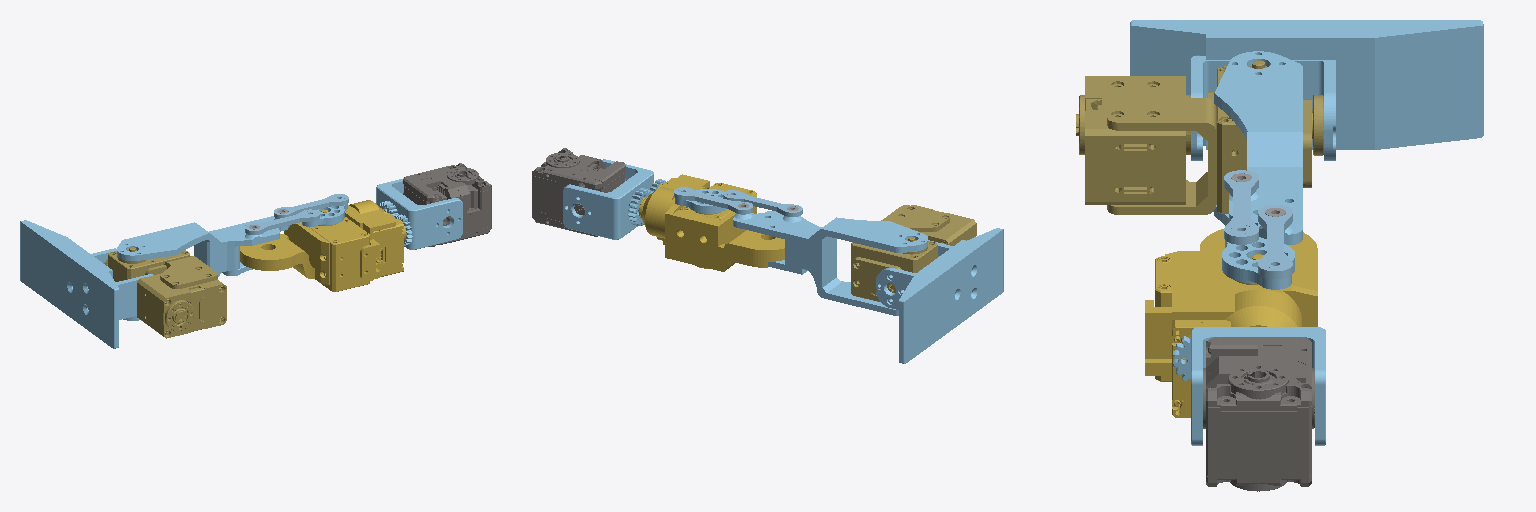
robot.urdf — right_leg_reorder:
<?xml version="1.0" ?><robot name="right_leg_reorder">  
  <link name="2xc430">    
    <visual>      
      <origin xyz="0 0 0" rpy="0 -0 0"/>      
      <geometry>        
        <mesh filename="package:///meshes/right_2xc430_visual.stl"/>        
      </geometry>      
      <material name="2xc430_material">        
        <color rgba="0.51698661238356047321 0.50347815951093488618 0.49050589017722012741 1.0"/>        
      </material>      
    </visual>    
    <collision>      
      <origin xyz="0 0 0" rpy="0 -0 0"/>      
      <geometry>        
        <mesh filename="package:///meshes/right_2xc430_collision.stl"/>        
      </geometry>      
    </collision>    
    <inertial>      
      <origin xyz="-0.012000151133958554886 0.00049588831385534079804 0.018504019244502921404" rpy="0 0 0"/>      
      <mass value="0.11059999999836234164"/>      
      <inertia ixx="2.2818802599017778125e-05" ixy="4.6888548258171730122e-08" ixz="4.6520143290256497303e-08" iyy="3.0871666424468414871e-05" iyz="-5.747734389970726397e-07" izz="3.087163208233809265e-05"/>      
    </inertial>    
  </link>  

  <link name="hip_yaw_link">    
    <visual>      
      <origin xyz="0 0 0" rpy="0 -0 0"/>      
      <geometry>        
        <mesh filename="package:///meshes/right_hip_yaw_link_visual.stl"/>        
      </geometry>      
      <material name="hip_yaw_link_material">        
        <color rgba="0.61568627450980395466 0.81176470588235283277 0.92941176470588238168 1.0"/>        
      </material>      
    </visual>    
    <collision>      
      <origin xyz="0 0 0" rpy="0 -0 0"/>      
      <geometry>        
        <mesh filename="package:///meshes/right_hip_yaw_link_collision.stl"/>        
      </geometry>      
    </collision>    
    <inertial>      
      <origin xyz="-2.6529777091803952907e-18 -0.015800610849654270207 -0.019005670096647747647" rpy="0 0 0"/>      
      <mass value="0.013199999999999994724"/>      
      <inertia ixx="5.789461597517412337e-06" ixy="-3.2907588574144851931e-36" ixz="3.2286603810593676882e-35" iyy="5.0110144042848759377e-06" iyz="1.1826010760651800808e-09" izz="2.7344876354814335894e-06"/>      
    </inertial>    
  </link>  

  <link name="spur_gear_21_teeth">    
    <visual>      
      <origin xyz="0 0 0" rpy="0 -0 0"/>      
      <geometry>        
        <mesh filename="package:///meshes/right_spur_gear_21_teeth_visual.stl"/>        
      </geometry>      
      <material name="spur_gear_21_teeth_material">        
        <color rgba="0.61568627450980395466 0.81176470588235294379 0.9294117647058824927 1.0"/>        
      </material>      
    </visual>    
    <collision>      
      <origin xyz="0 0 0" rpy="0 -0 0"/>      
      <geometry>        
        <mesh filename="package:///meshes/right_spur_gear_21_teeth_collision.stl"/>        
      </geometry>      
    </collision>    
    <inertial>      
      <origin xyz="-4.5505289275732651246e-11 -1.6782167404155845752e-11 -0.00249241020062506086" rpy="0 0 0"/>      
      <mass value="0.0022000000000000001325"/>      
      <inertia ixx="7.0162310059594196881e-08" ixy="-5.4656449640042247183e-37" ixz="-4.3150666450744828066e-37" iyy="7.016231005804746178e-08" iyz="-6.9066436847920049312e-38" izz="1.3125544198538289306e-07"/>      
    </inertial>    
  </link>  

  <link name="right_hip_pitch_link">    
    <visual>      
      <origin xyz="0 0 0" rpy="0 -0 0"/>      
      <geometry>        
        <mesh filename="package:///meshes/right_hip_pitch_link_visual.stl"/>        
      </geometry>      
      <material name="right_hip_pitch_link_material">        
        <color rgba="0.81231119922470307326 0.71311588921073154612 0.33680089849959454762 1.0"/>        
      </material>      
    </visual>    
    <collision>      
      <origin xyz="0 0 0" rpy="0 -0 0"/>      
      <geometry>        
        <mesh filename="package:///meshes/right_hip_pitch_link_collision.stl"/>        
      </geometry>      
    </collision>    
    <inertial>      
      <origin xyz="0.010187905578010728394 -0.0056188467228508410731 0.038815928333491442337" rpy="0 0 0"/>      
      <mass value="0.14548965119785950417"/>      
      <inertia ixx="7.0942049594865431734e-05" ixy="1.1158758975156953663e-06" ixz="7.6515558781281230204e-06" iyy="8.5157398802913230511e-05" iyz="1.0699337399089805e-06" izz="4.0945306935231512132e-05"/>      
    </inertial>    
  </link>  

  <link name="spur_gear_18_teeth">    
    <visual>      
      <origin xyz="0 0 0" rpy="0 -0 0"/>      
      <geometry>        
        <mesh filename="package:///meshes/right_spur_gear_18_teeth_visual.stl"/>        
      </geometry>      
      <material name="spur_gear_18_teeth_material">        
        <color rgba="0.61568627450980395466 0.81176470588235294379 0.92941176470588238168 1.0"/>        
      </material>      
    </visual>    
    <collision>      
      <origin xyz="0 0 0" rpy="0 -0 0"/>      
      <geometry>        
        <mesh filename="package:///meshes/right_spur_gear_18_teeth_collision.stl"/>        
      </geometry>      
    </collision>    
    <inertial>      
      <origin xyz="-1.2350888076970198418e-14 -3.7635627055517647656e-13 0.0017500000000010135486" rpy="0 0 0"/>      
      <mass value="0.0011999999999999998949"/>      
      <inertia ixx="2.9367899810676062645e-08" ixy="-5.8641944654482965406e-38" ixz="5.3255683241419689376e-37" iyy="2.9367899814783318789e-08" iyz="1.3183913269072010735e-38" izz="5.6306346207859568346e-08"/>      
    </inertial>    
  </link>  

  <joint name="right_hip_yaw_drive" type="revolute">    
    <origin xyz="0.019199999999999432798 0.00020000000000077594597 -3.9572511933982923438e-14" rpy="-3.1415926535897544802 -2.6855722846812135811e-13 4.4780845698253311116e-13"/>    
    <parent link="right_hip_pitch_link"/>    
    <child link="spur_gear_18_teeth"/>    
    <axis xyz="0 0 1"/>    
    <limit effort="1" velocity="20" lower="-1.8325957145940461324" upper="1.8325957145940461324"/>    
    <joint_properties friction="0.0"/>    
  </joint>  

  <link name="right_calf_link">    
    <visual>      
      <origin xyz="0 0 0" rpy="0 -0 0"/>      
      <geometry>        
        <mesh filename="package:///meshes/right_calf_link_visual.stl"/>        
      </geometry>      
      <material name="right_calf_link_material">        
        <color rgba="0.61568627450980395466 0.81176470588235294379 0.9294117647058824927 1.0"/>        
      </material>      
    </visual>    
    <collision>      
      <origin xyz="0 0 0" rpy="0 -0 0"/>      
      <geometry>        
        <mesh filename="package:///meshes/right_calf_link_collision.stl"/>        
      </geometry>      
    </collision>    
    <inertial>      
      <origin xyz="-0.0043450054394401473393 -0.040752982164757464711 0.0087116093514751895971" rpy="0 0 0"/>      
      <mass value="0.030999999999999992839"/>      
      <inertia ixx="3.306938868543694962e-05" ixy="1.3783307152005447193e-06" ixz="-1.274253401714876505e-07" iyy="7.7316525337490038072e-06" iyz="7.3356500737983568942e-08" izz="2.8031377754211947353e-05"/>      
    </inertial>    
  </link>  

  <link name="bearing_683">    
    <visual>      
      <origin xyz="0 0 0" rpy="0 -0 0"/>      
      <geometry>        
        <mesh filename="package:///meshes/right_bearing_683_visual.stl"/>        
      </geometry>      
      <material name="bearing_683_material">        
        <color rgba="0.64705882352941179736 0.64705882352941179736 0.64705882352941179736 1.0"/>        
      </material>      
    </visual>    
    <collision>      
      <origin xyz="0 0 0" rpy="0 -0 0"/>      
      <geometry>        
        <mesh filename="package:///meshes/right_bearing_683_collision.stl"/>        
      </geometry>      
    </collision>    
    <inertial>      
      <origin xyz="1.0732094295237755686e-19 -2.4186774283160312878e-19 -0.0015500000000000003792" rpy="0 0 0"/>      
      <mass value="0.00048694686130641793437"/>      
      <inertia ixx="2.1551456503319887385e-09" ixy="-1.7491155954423949016e-28" ixz="-1.4181088723102325815e-38" iyy="2.1551456503319883249e-09" iyz="2.7953863573959653405e-38" izz="3.5303647444715305817e-09"/>      
    </inertial>    
  </link>  

  <joint name="right_knee_front_rev_2" type="revolute">    
    <origin xyz="0.0057402514854763839539 -0.013858192987669326612 0.026200000000000188416" rpy="-3.1415926535897886751 -3.2616767361120603506e-15 1.5711344860216835961"/>    
    <parent link="right_calf_link"/>    
    <child link="bearing_683"/>    
    <axis xyz="0 0 1"/>    
    <limit effort="1" velocity="20"/>    
    <joint_properties friction="0.0"/>    
  </joint>  

  <link name="bearing_683_2">    
    <visual>      
      <origin xyz="0 0 0" rpy="0 -0 0"/>      
      <geometry>        
        <mesh filename="package:///meshes/right_bearing_683_2_visual.stl"/>        
      </geometry>      
      <material name="bearing_683_2_material">        
        <color rgba="0.64705882352941179736 0.64705882352941179736 0.64705882352941179736 1.0"/>        
      </material>      
    </visual>    
    <collision>      
      <origin xyz="0 0 0" rpy="0 -0 0"/>      
      <geometry>        
        <mesh filename="package:///meshes/right_bearing_683_2_collision.stl"/>        
      </geometry>      
    </collision>    
    <inertial>      
      <origin xyz="1.0732094295237708741e-19 -1.1092294808199861648e-18 -0.0015500000000000003792" rpy="0 0 0"/>      
      <mass value="0.00048694686130641793437"/>      
      <inertia ixx="2.1551456503319887385e-09" ixy="-5.2750838441507813886e-29" ixz="0" iyy="2.1551456503319883249e-09" iyz="-4.4559467649346522358e-38" izz="3.5303647444715305817e-09"/>      
    </inertial>    
  </link>  

  <joint name="right_knee_back_rev_2" type="revolute">    
    <origin xyz="-0.0057402514854757351673 0.013858192987668299656 0.026199999999999772082" rpy="-3.1415926535897873428 -1.7584330469580919838e-14 1.5695900556931792202"/>    
    <parent link="right_calf_link"/>    
    <child link="bearing_683_2"/>    
    <axis xyz="0 0 1"/>    
    <limit effort="1" velocity="20"/>    
    <joint_properties friction="0.0"/>    
  </joint>  

  <link name="right_ank_pitch_link">    
    <visual>      
      <origin xyz="0 0 0" rpy="0 -0 0"/>      
      <geometry>        
        <mesh filename="package:///meshes/right_ank_pitch_link_visual.stl"/>        
      </geometry>      
      <material name="right_ank_pitch_link_material">        
        <color rgba="0.70321688500203327621 0.64514870846184446673 0.40484735422826279017 1.0"/>        
      </material>      
    </visual>    
    <collision>      
      <origin xyz="0 0 0" rpy="0 -0 0"/>      
      <geometry>        
        <mesh filename="package:///meshes/right_ank_pitch_link_collision.stl"/>        
      </geometry>      
    </collision>    
    <inertial>      
      <origin xyz="-0.017770241889542317398 0.012301334508572219634 0.018814514831173603099" rpy="0 0 0"/>      
      <mass value="0.17676376695067899658"/>      
      <inertia ixx="4.7283381546856786612e-05" ixy="1.3380598207240605858e-06" ixz="6.1532628607400666377e-07" iyy="0.0001070646253591693456" iyz="-5.1080086246266920656e-08" izz="0.00012185522398303507265"/>      
    </inertial>    
  </link>  

  <link name="ank_roll_link">    
    <visual>      
      <origin xyz="0 0 0" rpy="0 -0 0"/>      
      <geometry>        
        <mesh filename="package:///meshes/right_ank_roll_link_visual.stl"/>        
      </geometry>      
      <material name="ank_roll_link_material">        
        <color rgba="0.61568627450980395466 0.81176470588235294379 0.92941176470588238168 1.0"/>        
      </material>      
    </visual>    
    <collision>      
      <origin xyz="0 0 0" rpy="0 -0 0"/>      
      <geometry>        
        <mesh filename="package:///meshes/right_ank_roll_link_collision.stl"/>        
      </geometry>      
    </collision>    
    <inertial>      
      <origin xyz="-0.027003066516822164106 -2.0057327605930640986e-12 0.033764011359896511921" rpy="0 0 0"/>      
      <mass value="0.042599999999999998979"/>      
      <inertia ixx="3.7284397827465391934e-05" ixy="-5.5176118208468573726e-16" ixz="2.3929183768081708121e-06" iyy="3.7589276943350449865e-05" iyz="5.0934855128918095395e-12" izz="1.0090430906787057163e-05"/>      
    </inertial>    
  </link>  

  <joint name="right_ank_roll" type="revolute">    
    <origin xyz="-0.022749999999988414906 -3.3306690738754696213e-15 0.01899999999999847991" rpy="1.5707963267948539254 5.2107940288300650017e-14 1.5707963267948161779"/>    
    <parent link="right_ank_pitch_link"/>    
    <child link="ank_roll_link"/>    
    <axis xyz="0 0 1"/>    
    <limit effort="1" velocity="20" lower="-1.570796326794896558" upper="1.570796326794896558"/>    
    <joint_properties friction="0.0"/>    
  </joint>  

  <joint name="right_ank_pitch" type="revolute">    
    <origin xyz="3.002118024832101527e-17 -0.10000000000000031086 0.027750000000000059341" rpy="-3.1415926535897926719 6.2448450038443343634e-16 -3.1415926535897926719"/>    
    <parent link="right_calf_link"/>    
    <child link="right_ank_pitch_link"/>    
    <axis xyz="0 0 1"/>    
    <limit effort="1" velocity="20" lower="-0.785398163397448279" upper="1.7453292519943295336"/>    
    <joint_properties friction="0.0"/>    
  </joint>  

  <joint name="right_knee" type="revolute">    
    <origin xyz="1.3574383152273289389e-16 -0.0087500000000006062512 0.085949999999999984746" rpy="-1.5707963267948805708 -3.7746952287071370984e-15 4.9902824220642934492e-15"/>    
    <parent link="right_hip_pitch_link"/>    
    <child link="right_calf_link"/>    
    <axis xyz="0 0 1"/>    
    <limit effort="1" velocity="20" lower="0" upper="2.0943951023931952626"/>    
    <joint_properties friction="0.0"/>    
  </joint>  

  <link name="xm430_plate">    
    <visual>      
      <origin xyz="0 0 0" rpy="0 -0 0"/>      
      <geometry>        
        <mesh filename="package:///meshes/right_xm430_plate_visual.stl"/>        
      </geometry>      
      <material name="xm430_plate_material">        
        <color rgba="0.61568627450980395466 0.81176470588235294379 0.92941176470588227065 1.0"/>        
      </material>      
    </visual>    
    <collision>      
      <origin xyz="0 0 0" rpy="0 -0 0"/>      
      <geometry>        
        <mesh filename="package:///meshes/right_xm430_plate_collision.stl"/>        
      </geometry>      
    </collision>    
    <inertial>      
      <origin xyz="-9.7261304206861753998e-19 -2.7508707211877265003e-18 0.0025278513919583813462" rpy="0 0 0"/>      
      <mass value="0.0027000000000000001429"/>      
      <inertia ixx="2.4635091298412544671e-07" ixy="5.8739562556303566831e-08" ixz="3.1093856674988785691e-36" iyy="1.2887178787151822041e-07" iyz="7.4139751184723011127e-37" izz="3.6467998413810321832e-07"/>      
    </inertial>    
  </link>  

  <link name="knee_rod">    
    <visual>      
      <origin xyz="0 0 0" rpy="0 -0 0"/>      
      <geometry>        
        <mesh filename="package:///meshes/right_knee_rod_visual.stl"/>        
      </geometry>      
      <material name="knee_rod_material">        
        <color rgba="0.62051618944235198416 0.78640765248647581664 0.88594253031295022716 1.0"/>        
      </material>      
    </visual>    
    <collision>      
      <origin xyz="0 0 0" rpy="0 -0 0"/>      
      <geometry>        
        <mesh filename="package:///meshes/right_knee_rod_collision.stl"/>        
      </geometry>      
    </collision>    
    <inertial>      
      <origin xyz="0.017534310910028421543 1.185877916911817973e-05 -0.0015987301647647246799" rpy="0 0 0"/>      
      <mass value="0.0031629468613064179276"/>      
      <inertia ixx="2.4224310081263208001e-08" ixy="-1.196784738102416964e-10" ixz="4.9178348499397176204e-10" iyy="8.1758895033325342041e-07" iyz="3.3260227775621559853e-13" izz="8.3704877987923238757e-07"/>      
    </inertial>    
  </link>  

  <joint name="right_knee_front_rev_1" type="revolute">    
    <origin xyz="0.0057402514854763518615 -0.013858192987669257223 0.0050000000000000113798" rpy="3.141592653589793116 -1.111704857049913648e-15 -1.5704581675681130726"/>    
    <parent link="xm430_plate"/>    
    <child link="knee_rod"/>    
    <axis xyz="0 0 1"/>    
    <limit effort="1" velocity="20"/>    
    <joint_properties friction="0.0"/>    
  </joint>  

  <link name="knee_rod_2">    
    <visual>      
      <origin xyz="0 0 0" rpy="0 -0 0"/>      
      <geometry>        
        <mesh filename="package:///meshes/right_knee_rod_2_visual.stl"/>        
      </geometry>      
      <material name="knee_rod_2_material">        
        <color rgba="0.62051618944235198416 0.78640765248647581664 0.88594253031295022716 1.0"/>        
      </material>      
    </visual>    
    <collision>      
      <origin xyz="0 0 0" rpy="0 -0 0"/>      
      <geometry>        
        <mesh filename="package:///meshes/right_knee_rod_2_collision.stl"/>        
      </geometry>      
    </collision>    
    <inertial>      
      <origin xyz="0.017534287401106681686 -4.230225965767764535e-05 -0.0015987301647646889012" rpy="0 0 0"/>      
      <mass value="0.0031629468613064179276"/>      
      <inertia ixx="2.4225259086581160197e-08" ixy="4.269126707158853537e-10" ixz="4.9178282565450748946e-10" iyy="8.175884758307931331e-07" iyz="-1.186448257998784681e-12" izz="8.3704925438208728636e-07"/>      
    </inertial>    
  </link>  

  <joint name="right_knee_back_rev_1" type="revolute">    
    <origin xyz="-0.0057402514854763440552 0.013858192987669354368 0.0049999999999999905631" rpy="-3.141592653589793116 1.2542833298517128192e-14 -1.5720025978966174485"/>    
    <parent link="xm430_plate"/>    
    <child link="knee_rod_2"/>    
    <axis xyz="0 0 1"/>    
    <limit effort="1" velocity="20"/>    
    <joint_properties friction="0.0"/>    
  </joint>  

  <joint name="right_knee_act" type="revolute">    
    <origin xyz="3.9287971482105029401e-18 0.0124499999999997564 0.044500000000000400346" rpy="-1.5707963267948774622 -2.7749270113816245533e-16 5.4939032356427845754e-16"/>    
    <parent link="right_hip_pitch_link"/>    
    <child link="xm430_plate"/>    
    <axis xyz="0 0 1"/>    
    <limit effort="1" velocity="20" lower="0" upper="2.0943951023931952626"/>    
    <joint_properties friction="0.0"/>    
  </joint>  

  <joint name="right_hip_yaw_driven" type="revolute">    
    <origin xyz="-5.2457909251798218506e-18 -3.4694469519536141888e-18 -0.0050000000000000113798" rpy="3.1415926535897922278 -1.4272087055159576395e-14 -3.6758798213763643757e-30"/>    
    <parent link="spur_gear_21_teeth"/>    
    <child link="right_hip_pitch_link"/>    
    <axis xyz="0 0 1"/>    
    <limit effort="1" velocity="20" lower="-1.570796326794896558" upper="1.570796326794896558"/>    
    <joint_properties friction="0.0"/>    
  </joint>  

  <joint name="right_hip_yaw_fixed" type="fixed">    
    <origin xyz="6.9388939039072283776e-18 -0.027999999999999997113 -0.019000000000000002998" rpy="-1.5707963267948990005 1.5707963267948785724 0"/>    
    <parent link="hip_yaw_link"/>    
    <child link="spur_gear_21_teeth"/>    
    <axis xyz="0 0 1"/>    
    <limit effort="1" velocity="20"/>    
    <joint_properties friction="0.0"/>    
  </joint>  

  <joint name="right_hip_roll" type="revolute">    
    <origin xyz="-0.024000000716143506108 0.019000000152447637375 0.019000000152446804708" rpy="-1.5707963267948252817 -1.5707963267948190644 0"/>    
    <parent link="2xc430"/>    
    <child link="hip_yaw_link"/>    
    <axis xyz="0 0 1"/>    
    <limit effort="1" velocity="20" lower="-0.785398163397448279" upper="0.785398163397448279"/>    
    <joint_properties friction="0.0"/>    
  </joint>  


</robot>

--- What the picture shows (computed from the rendered views, not written in the file) ---
3 views of the same robot in one strip: view 1: azimuth 30°, elevation 25°; view 2: azimuth 150°, elevation 25°; view 3: azimuth 270°, elevation 25° (orthographic).
Model right_leg_reorder with 13 links and 12 joints (11 revolute, 1 fixed), rooted at 2xc430, posed all joints at 0.
Links seen in each view (by area): view 1: right_hip_pitch_link, ank_roll_link, right_ank_pitch_link, right_calf_link, 2xc430, hip_yaw_link, knee_rod, knee_rod_2; view 2: ank_roll_link, right_hip_pitch_link, right_calf_link, right_ank_pitch_link, 2xc430, hip_yaw_link, knee_rod_2, knee_rod, xm430_plate; view 3: ank_roll_link, right_ank_pitch_link, 2xc430, right_hip_pitch_link, right_calf_link, hip_yaw_link, xm430_plate, knee_rod, knee_rod_2, spur_gear_18_teeth.
Link boxes in pixels (x1,y1,x2,y2): right_hip_pitch_link: [240, 200, 406, 291]; ank_roll_link: [20, 220, 152, 348]; right_ank_pitch_link: [104, 247, 226, 338]; right_calf_link: [117, 216, 289, 320]; 2xc430: [403, 163, 491, 246]; hip_yaw_link: [376, 178, 462, 249]; knee_rod: [245, 209, 319, 234]; knee_rod_2: [274, 194, 348, 218]; ank_roll_link: [876, 228, 1003, 363]; right_hip_pitch_link: [639, 174, 784, 271]; right_calf_link: [733, 211, 927, 315]; right_ank_pitch_link: [851, 205, 976, 301]; 2xc430: [532, 148, 625, 236]; hip_yaw_link: [563, 159, 653, 239]; knee_rod_2: [674, 187, 752, 214]; knee_rod: [723, 190, 802, 216]; xm430_plate: [675, 189, 725, 213]; ank_roll_link: [1130, 20, 1483, 160]; right_ank_pitch_link: [1076, 60, 1323, 214]; 2xc430: [1203, 337, 1314, 491]; right_hip_pitch_link: [1145, 229, 1317, 417]; right_calf_link: [1214, 51, 1302, 244]; hip_yaw_link: [1191, 327, 1325, 445]; xm430_plate: [1222, 237, 1294, 289]; knee_rod: [1224, 170, 1258, 244]; knee_rod_2: [1258, 205, 1292, 278]; spur_gear_18_teeth: [1173, 336, 1190, 380].
Bounding box of the posed robot: 0.2932 × 0.138 × 0.0489 m (x, y, z).
Meshes: 13 distinct files referenced, 13 mesh visuals loaded (13 binary STL).
